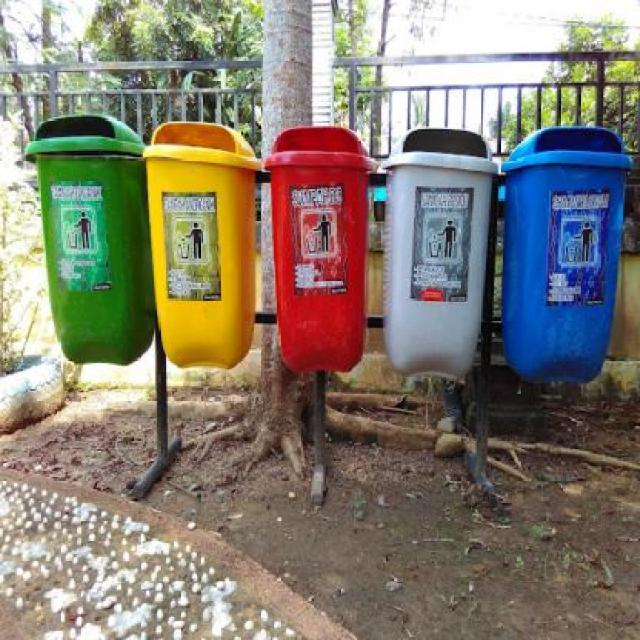garbage container: (498, 102, 638, 404), (375, 111, 500, 404), (20, 105, 152, 373), (263, 119, 386, 392), (148, 107, 264, 385)
